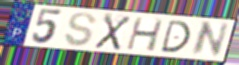5: (31, 8, 65, 46)
D: (159, 19, 193, 54)
H: (125, 16, 166, 53)
N: (188, 21, 232, 57)
S: (63, 11, 98, 48)
X: (92, 12, 133, 52)
